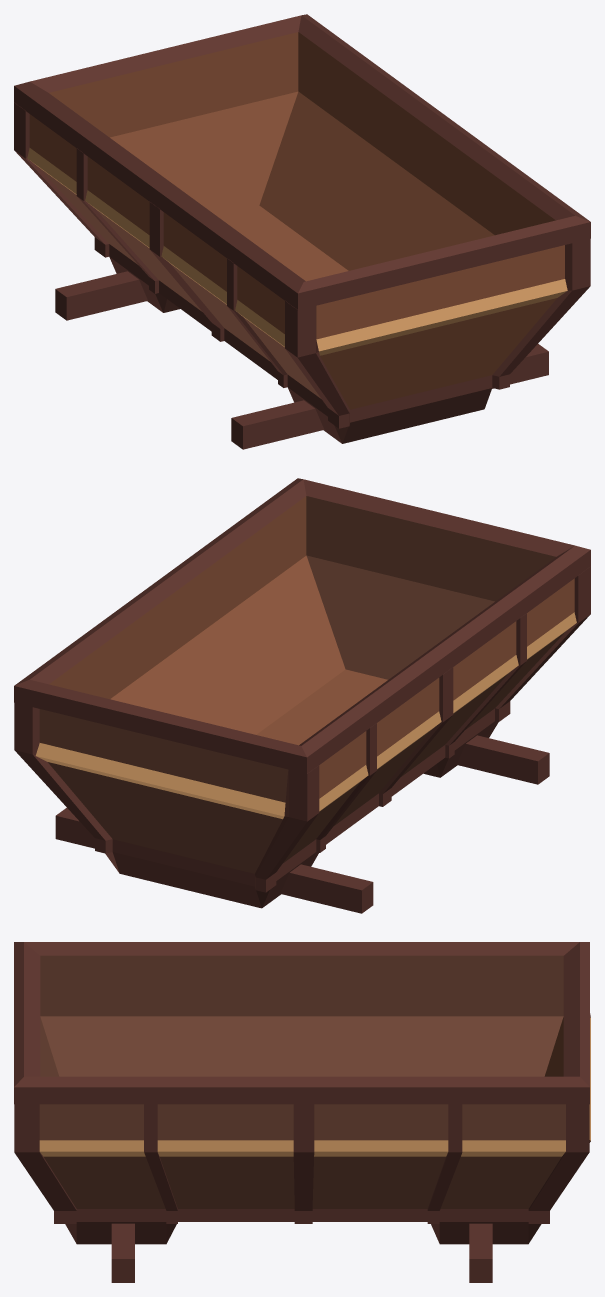
File: cart_single.fbx
The picture shows the model from 3 angles, top to bottom: view 1: azimuth 30°, elevation 25°; view 2: azimuth 150°, elevation 25°; view 3: azimuth 270°, elevation 25°; orthographic projection.
Visible parts, largest first — view 1: cart; view 2: cart; view 3: cart.
Part boxes in pixels (x1,y1,x2,y2): cart: (14,14,590,449); cart: (14,478,590,913); cart: (14,942,590,1282).
Bounding box in the file's own units: 194 × 119 × 313.
